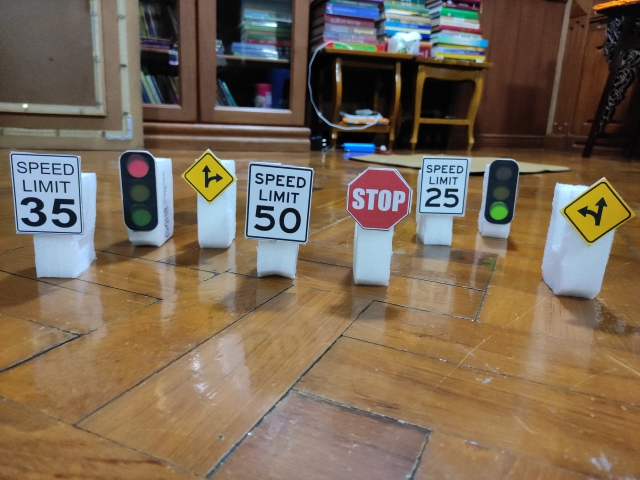Green Traffic Light: (484, 160, 519, 225)
Red Traffic Light: (118, 149, 158, 231)
Speed Limit 25: (419, 156, 468, 215)
Speed Limit 35: (9, 152, 83, 234)
Speed Limit 50: (245, 163, 313, 243)
Stop Sign: (346, 167, 412, 230)
Straight Or Left Sign: (563, 180, 631, 244)
Straight Or Right Sign: (184, 149, 235, 203)
